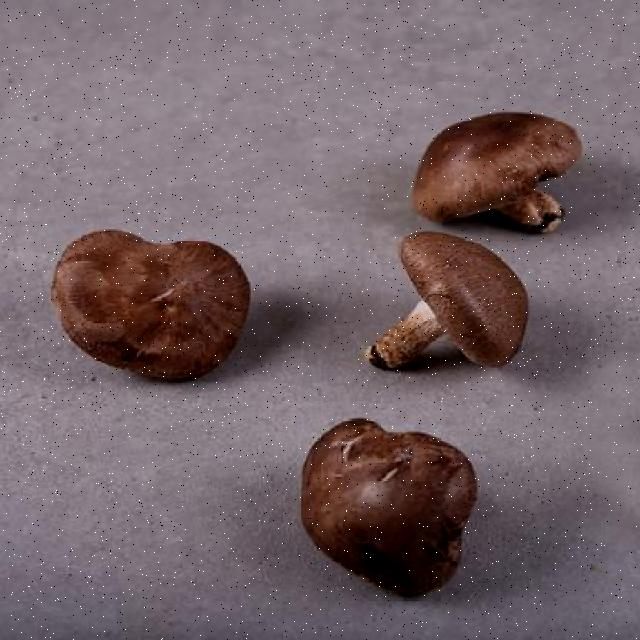Mushroom: (265, 401, 510, 616), (36, 215, 258, 392), (373, 221, 541, 397), (391, 98, 580, 213)
